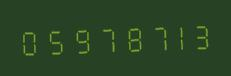eight: (113, 20, 136, 55)
five: (41, 22, 64, 57)
nine: (65, 21, 88, 56)
one: (161, 18, 184, 53)
seven: (89, 20, 112, 56), (137, 19, 160, 54)
three: (185, 17, 208, 52)
zero: (17, 23, 40, 58)
